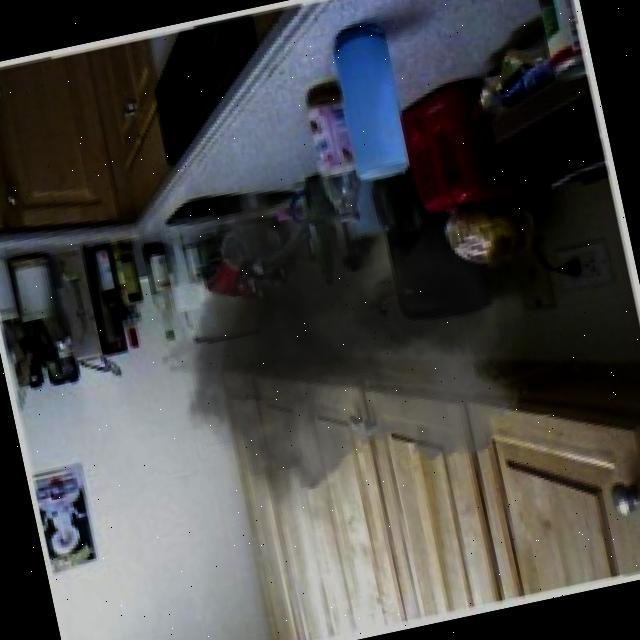smoke: (111, 110, 570, 599)
